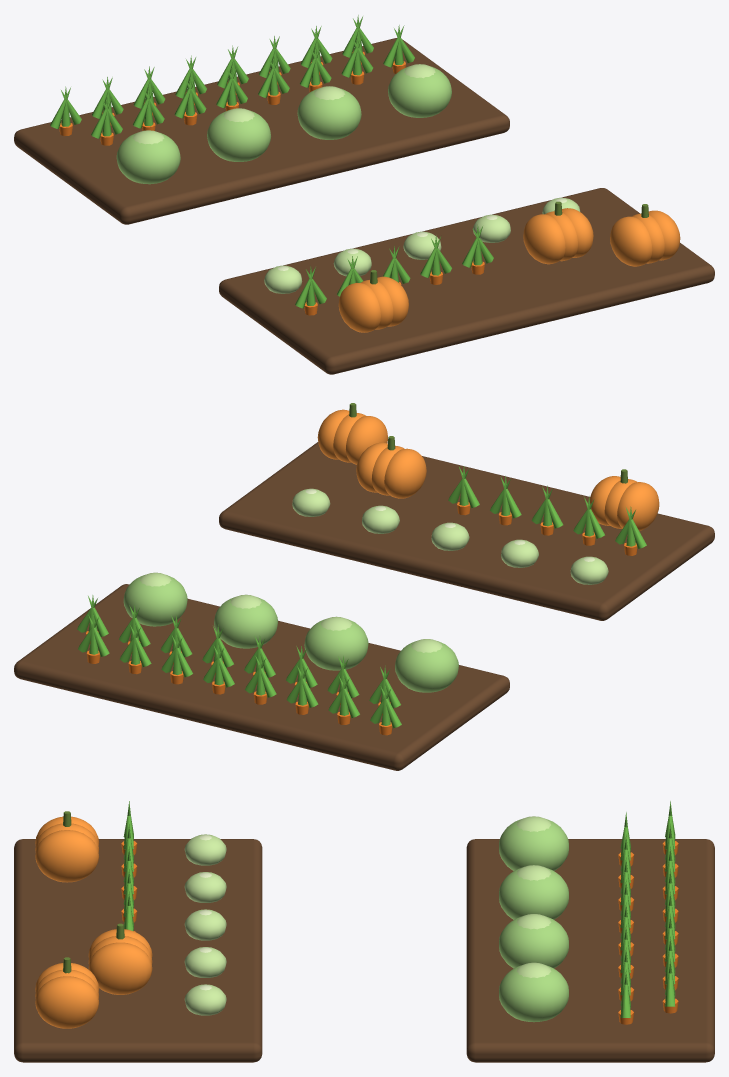
Rendered from veggies.glb.
The picture shows the model from 3 angles, top to bottom: view 1: azimuth 30°, elevation 25°; view 2: azimuth 150°, elevation 25°; view 3: azimuth 270°, elevation 25°; orthographic projection. The views are drawn at different scales.
Size of the model in its own units: 2.8 by 0.5 by 3.95.
